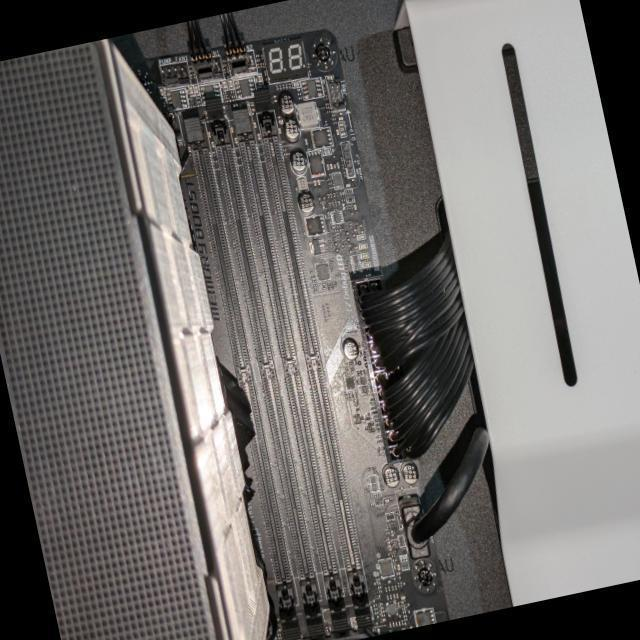CPU_Fan: (0, 28, 286, 640)
Mainboard: (158, 17, 458, 640)
